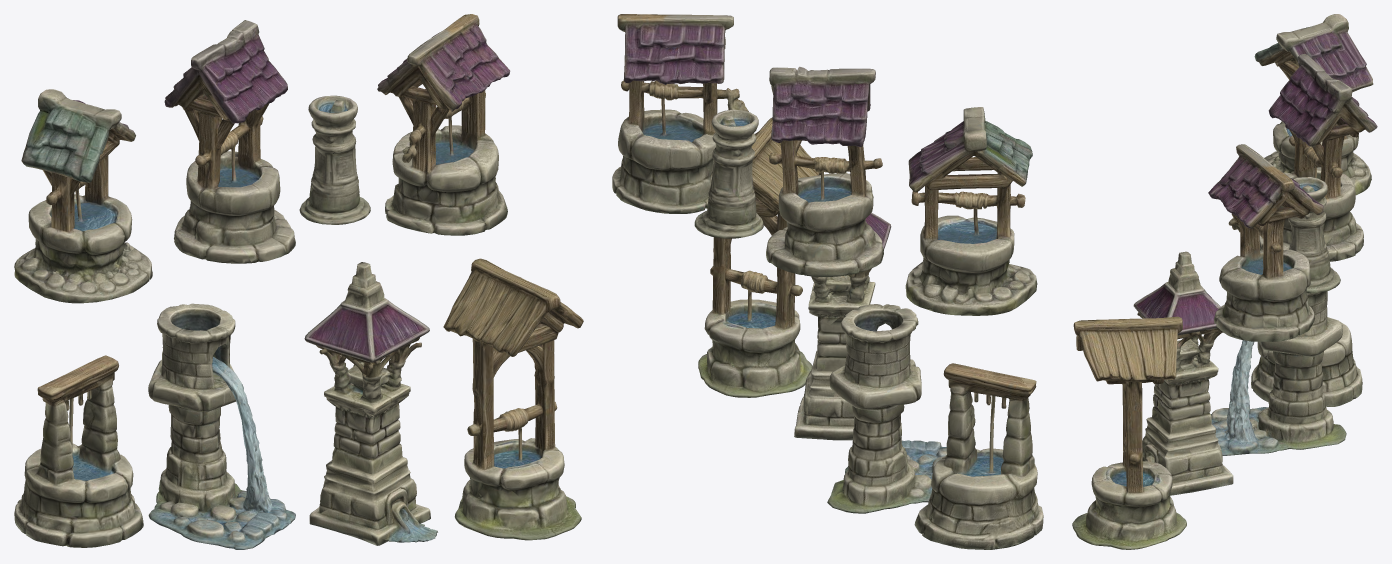
File: stonewell_ensemble.glb
3 renders of one model, left to right at view 1: azimuth 30°, elevation 25°; view 2: azimuth 150°, elevation 25°; view 3: azimuth 270°, elevation 25°, orthographic. The views are drawn at different scales.
Bounding box in the file's own units: 1.9 × 1.76 × 1.28.
Materials: 1 (1 with a texture image).
